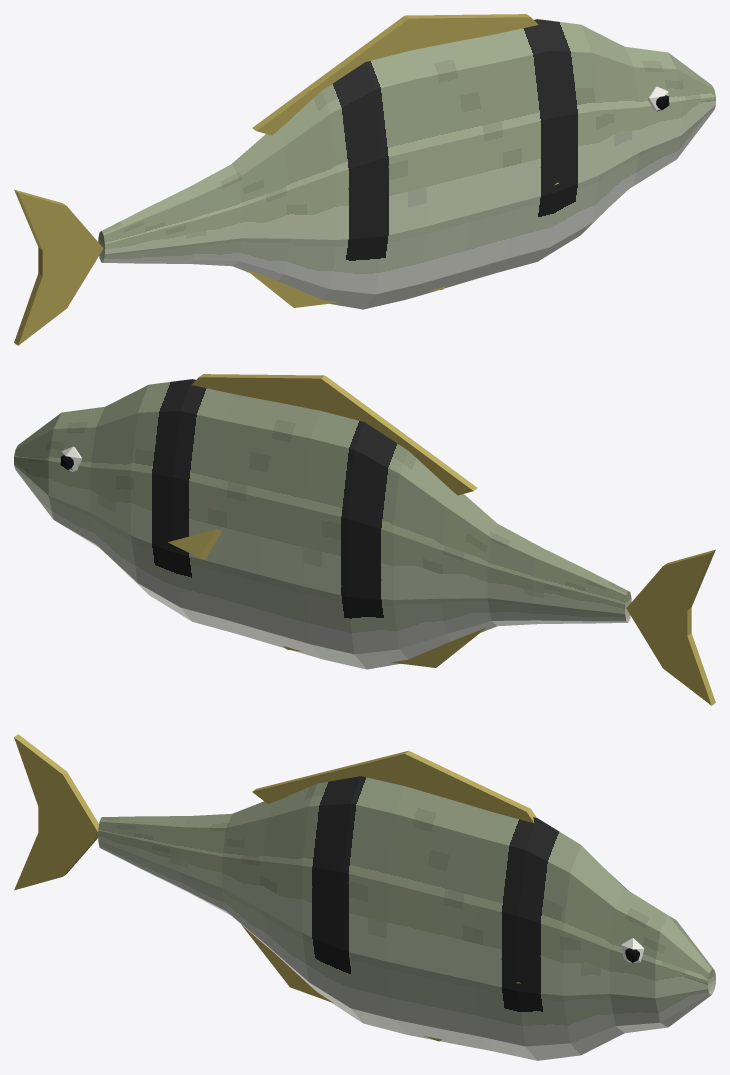
Rendered from archerfish.glb.
3 views of the same model, one above another, from view 1: azimuth 30°, elevation 25°; view 2: azimuth 150°, elevation 25°; view 3: azimuth 330°, elevation 25° (orthographic).
Parts seen in each view (by area): view 1: fish_archerfish; view 2: fish_archerfish; view 3: fish_archerfish.
Boxes of the visible parts, x1,y1,x2,y2 form: fish_archerfish: (14, 14, 715, 345); fish_archerfish: (14, 374, 715, 705); fish_archerfish: (14, 734, 715, 1060).
Bounding box in the file's own units: 1.14 × 0.4423 × 0.1417.
4 materials, 1 textured.
